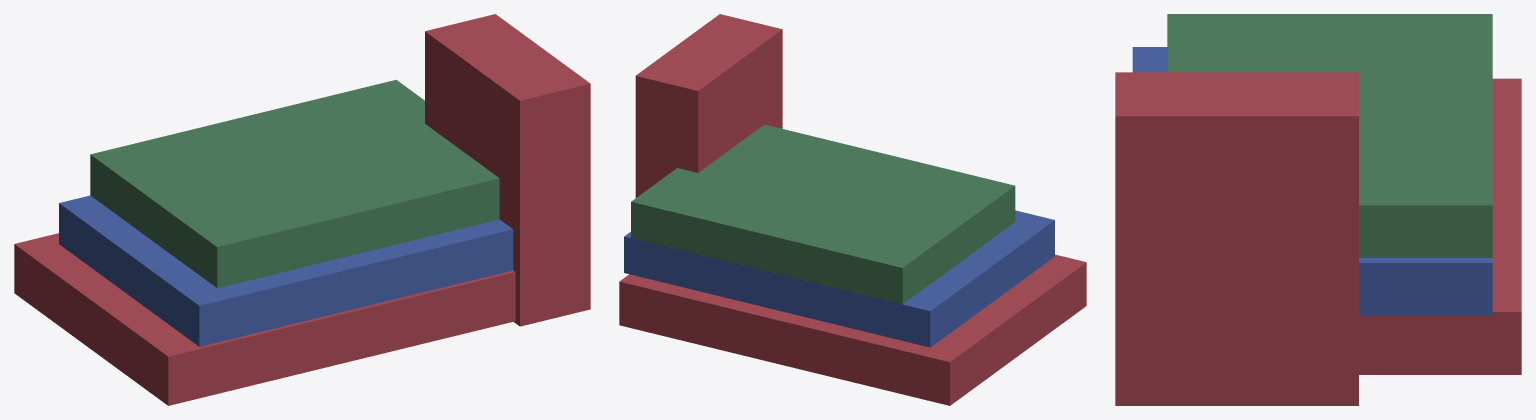
File: books_stack.obj
The picture shows the model from 3 angles, left to right: view 1: azimuth 30°, elevation 25°; view 2: azimuth 150°, elevation 25°; view 3: azimuth 270°, elevation 25°; orthographic projection. The views are drawn at different scales.
Size of the model in its own units: 1.06 by 0.55 by 0.7.
